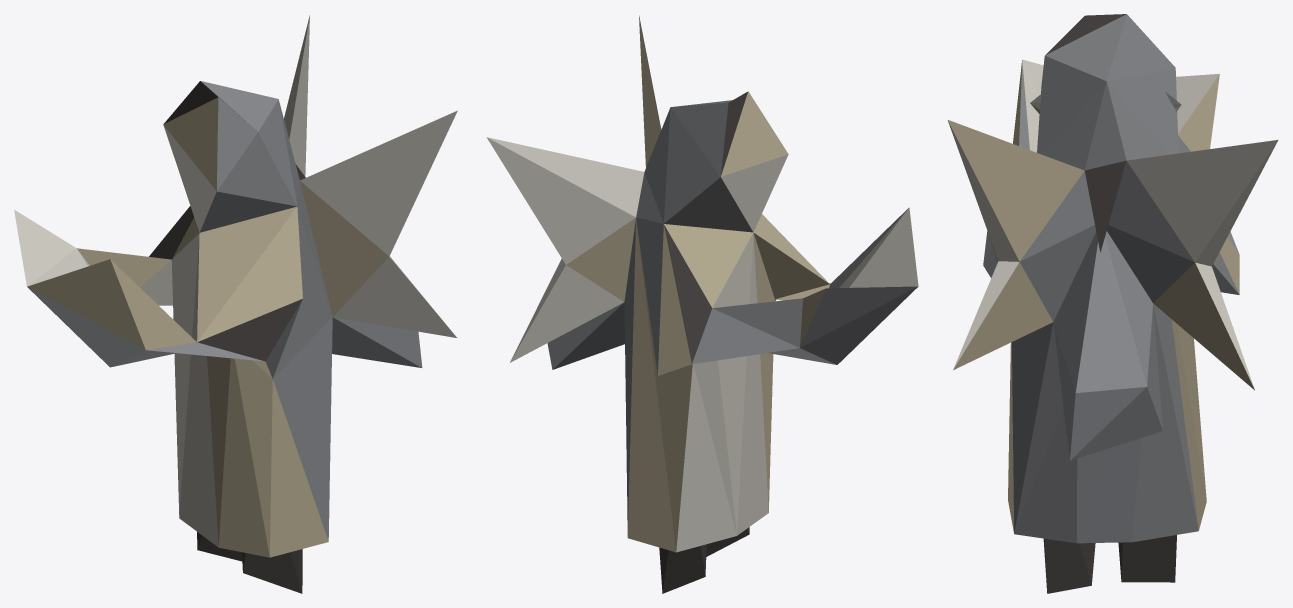
3 renders of one model, left to right at view 1: azimuth 30°, elevation 25°; view 2: azimuth 150°, elevation 25°; view 3: azimuth 270°, elevation 25°, orthographic. The views are drawn at different scales.
Parts seen in each view (by area): view 1: lion-200.001; view 2: lion-200.001; view 3: lion-200.001.
Boxes of the visible parts, box(x1,y1,x2,y2) form: lion-200.001: box(14, 15, 457, 593); lion-200.001: box(486, 15, 918, 593); lion-200.001: box(947, 14, 1278, 593).
Bounding box in the file's own units: 0.7689 × 0.9698 × 0.5338.
